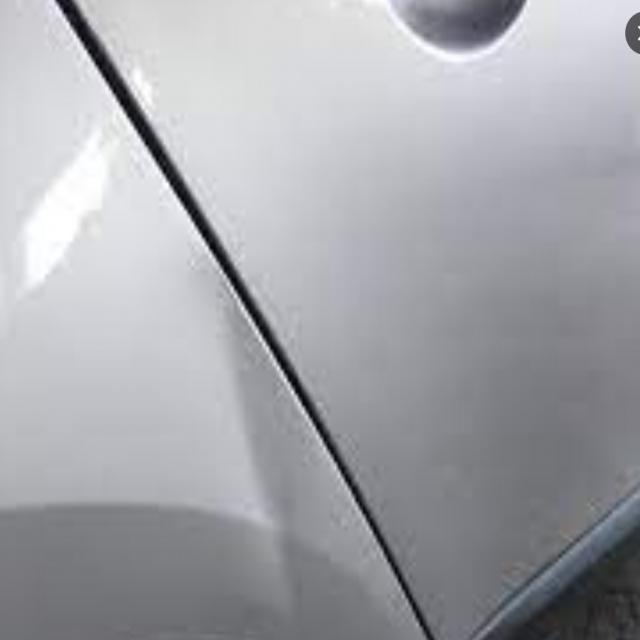dents: (193, 272, 330, 625)
